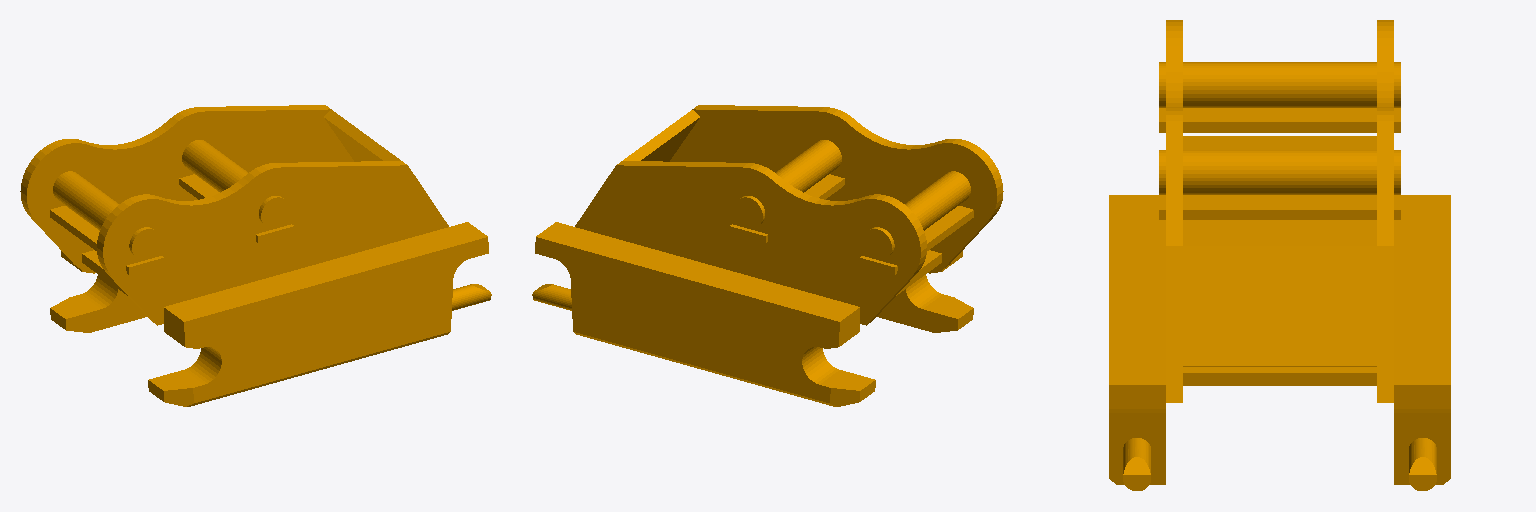
The robot description file, URDF, robot "oilquick_without_tool":
<?xml version="1.0" ?>
<!-- Copyright (c) 2017-2019 [author], Karlsruhe, Germany. All rights reserved. -->
<robot name="oilquick_without_tool" xmlns:xacro="http://ros.org/wiki/xacro">

  <link name="quickcoupler">
    <inertial>
      <mass value="25"/>
      <inertia ixx="0" ixy="0" ixz="0" iyy="0" iyz="0" izz="0"/>
    </inertial>
    <visual name="visual_quickcoupler">
      <geometry>
        <mesh filename="package://e1_description/meshes/quickcoupler_oq40.dae" scale="1 1 1"/>
      </geometry>
    </visual>
    <collision name="collision_quickcoupler">
      <origin rpy="0 0 0" xyz="0.2 0 -0.1"/>
      <geometry>
	<box size="0.5 0.3 0.3"/>
      </geometry>
    </collision>
  </link>
</robot>

--- What the picture shows (computed from the rendered views, not written in the file) ---
The picture shows the robot from 3 angles, left to right: view 1: azimuth 30°, elevation 25°; view 2: azimuth 150°, elevation 25°; view 3: azimuth 270°, elevation 25°; orthographic projection.
Robot: oilquick_without_tool — 1 links, 0 joints (none); root link quickcoupler; default pose: all joints at 0.
Links seen in each view (by area): view 1: quickcoupler; view 2: quickcoupler; view 3: quickcoupler.
Boxes of the visible links, x1,y1,x2,y2 form: quickcoupler: (20,105,491,406); quickcoupler: (532,105,1003,406); quickcoupler: (1109,20,1450,490).
Size in the robot's own frame: 0.4175 by 0.2395 by 0.2144 metres.
1 mesh visuals loaded from 1 distinct referenced files (1 Collada DAE).